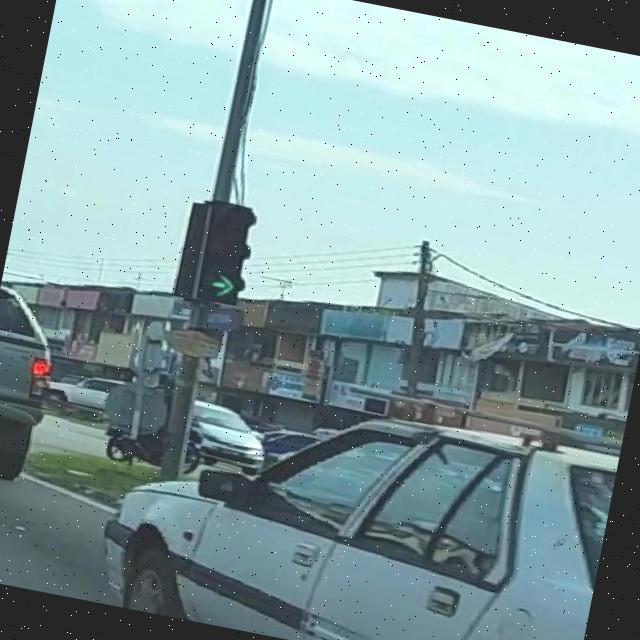green_light: (196, 199, 260, 304)
